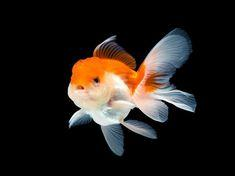goldfish: (56, 28, 203, 147)
